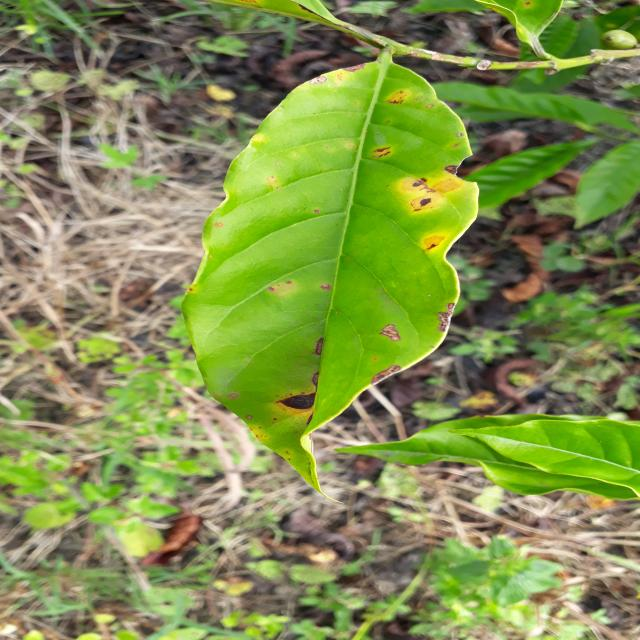Enfermedad-Roya: (182, 50, 481, 489)
